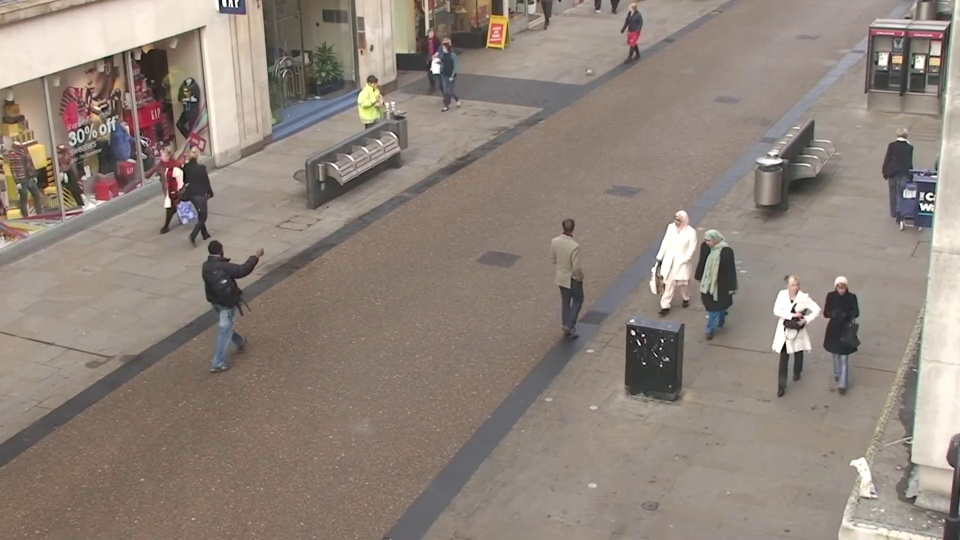pedestrian: (811, 275, 864, 414), (761, 272, 811, 409), (205, 229, 253, 352), (685, 227, 728, 353), (654, 207, 694, 328), (554, 211, 593, 333), (876, 121, 920, 221), (141, 144, 184, 245), (187, 137, 227, 236), (359, 73, 389, 156), (429, 42, 456, 117), (426, 36, 452, 109), (417, 28, 443, 99), (618, 1, 640, 66)
